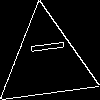I: (21, 37, 65, 58)
